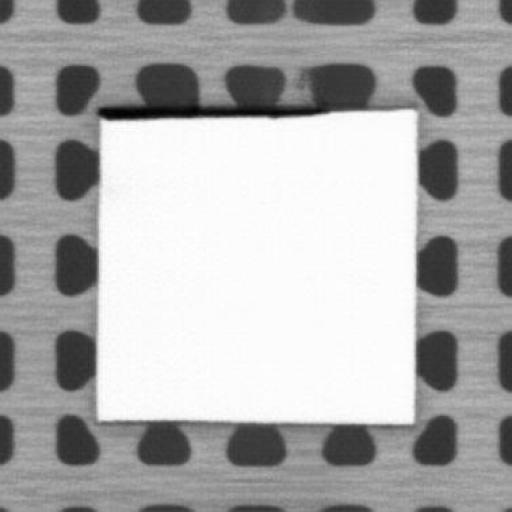DIE_BROKEN: (94, 103, 333, 121)
